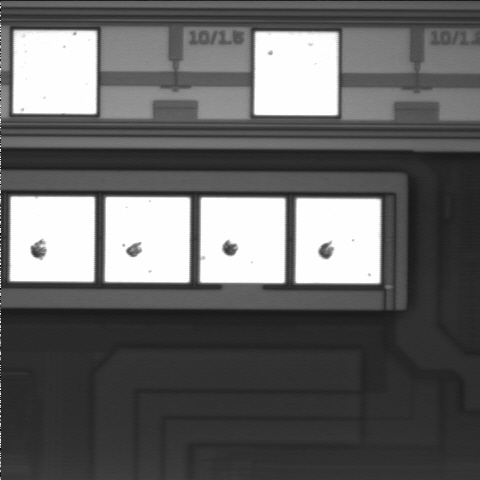pad: (105, 197, 190, 283), (10, 197, 95, 282), (200, 198, 285, 283), (296, 198, 381, 283), (13, 31, 97, 114), (254, 32, 338, 115)
